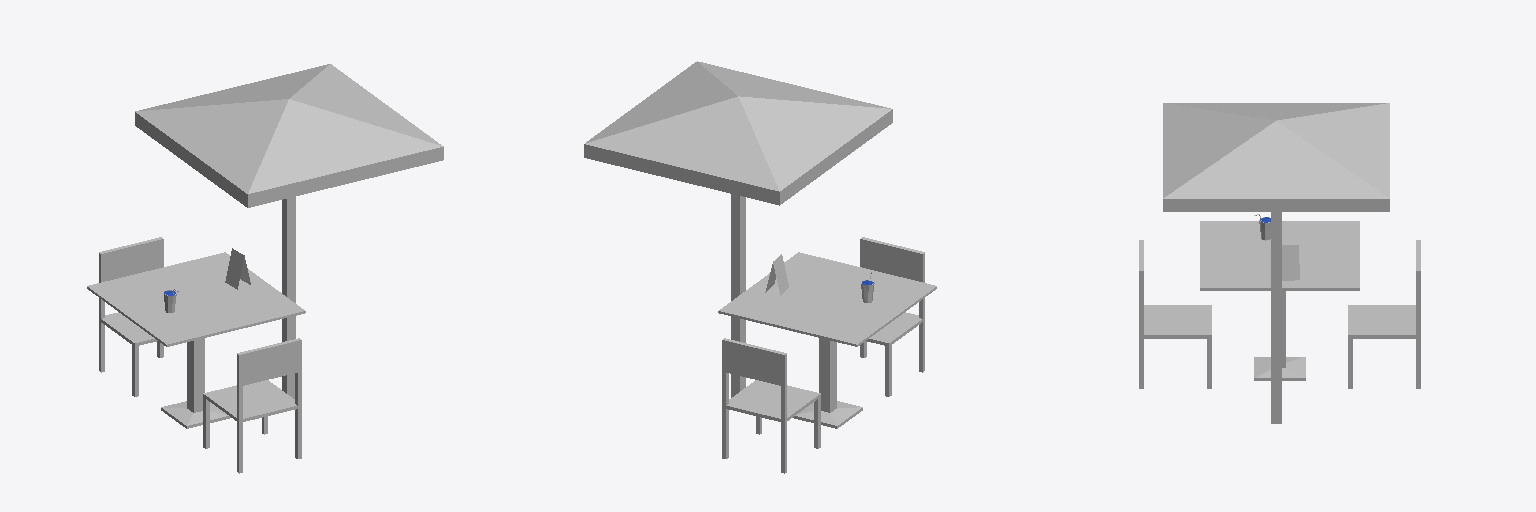
Rendered from table3.obj.
3 renders of one model, left to right at view 1: azimuth 30°, elevation 25°; view 2: azimuth 150°, elevation 25°; view 3: azimuth 270°, elevation 25°, orthographic.
Visible parts, largest first — view 1: Ombrello_02.004, Tavolino_02.004, Cube.034, Cube.033, Cartoncino_03.004; view 2: Ombrello_02.004, Tavolino_02.004, Cube.033, Cube.034; view 3: Ombrello_02.004, Tavolino_02.004, Cube.033, Cube.034, Cartoncino_03.004.
Boxes of the visible parts, x1,y1,x2,y2 form: Ombrello_02.004: [135, 64, 443, 398]; Tavolino_02.004: [87, 252, 305, 428]; Cube.034: [203, 338, 301, 473]; Cube.033: [99, 237, 163, 396]; Cartoncino_03.004: [225, 248, 250, 289]; Ombrello_02.004: [584, 61, 892, 397]; Tavolino_02.004: [718, 252, 936, 428]; Cube.033: [722, 338, 820, 473]; Cube.034: [860, 237, 924, 396]; Ombrello_02.004: [1163, 103, 1389, 423]; Tavolino_02.004: [1200, 221, 1359, 380]; Cube.033: [1348, 240, 1420, 388]; Cube.034: [1139, 240, 1211, 388]; Cartoncino_03.004: [1282, 245, 1299, 280].
Size of the model in its own units: 0.5804 by 0.6463 by 0.5461.